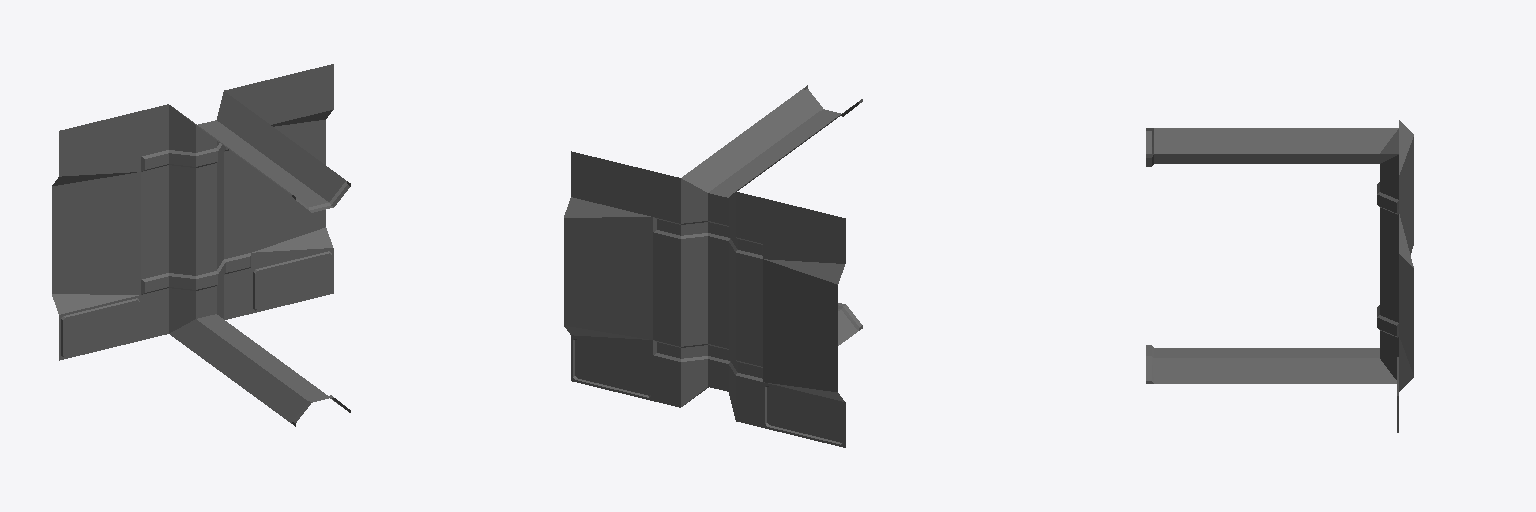
Rendered from LongWall01_LP.obj.
3 renders of one model, left to right at view 1: azimuth 30°, elevation 25°; view 2: azimuth 150°, elevation 25°; view 3: azimuth 270°, elevation 25°, orthographic.
Visible parts, largest first — view 1: Box001; view 2: Box001; view 3: Box001.
Part boxes in pixels (x1,y1,x2,y2): Box001: (52,64,350,426); Box001: (564,85,862,447); Box001: (1146,120,1413,432).
Size of the model in its own units: 640 by 512 by 542.